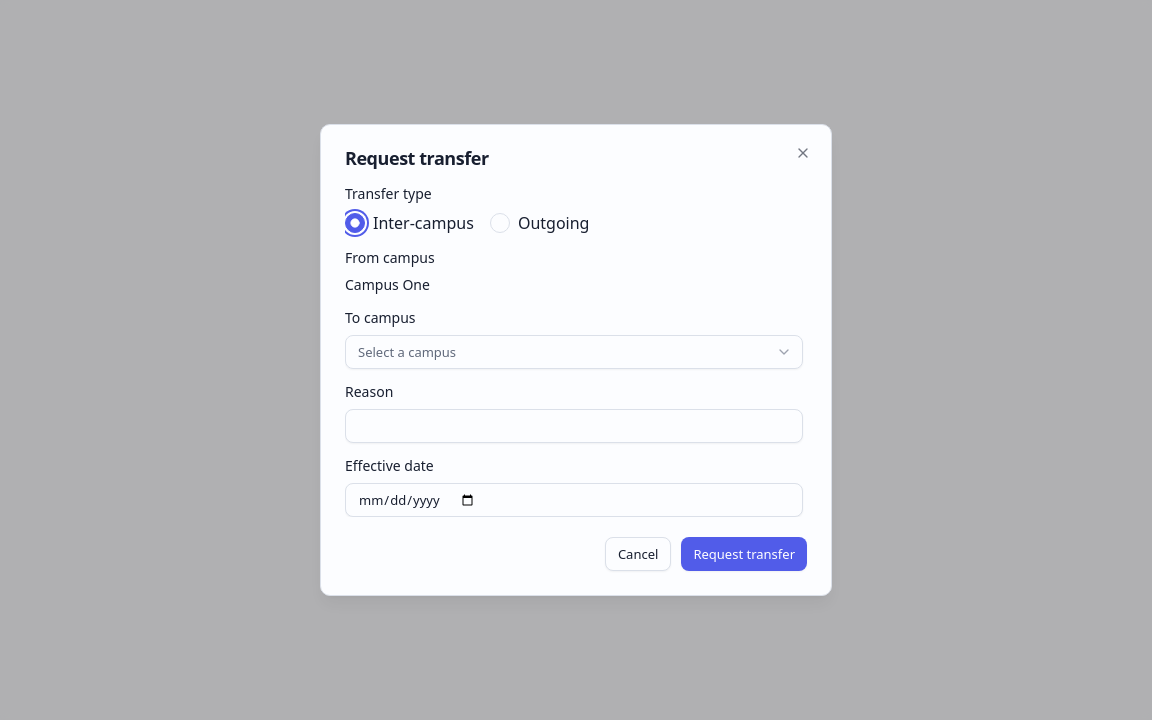
Scenario: RequestTransferDialog › excludes the current campus from the to_campus_id picker's options
This screenshot has width=1152, height=720.
Click the dropdown named "to campus" at (407, 352), box [345,335,803,369]
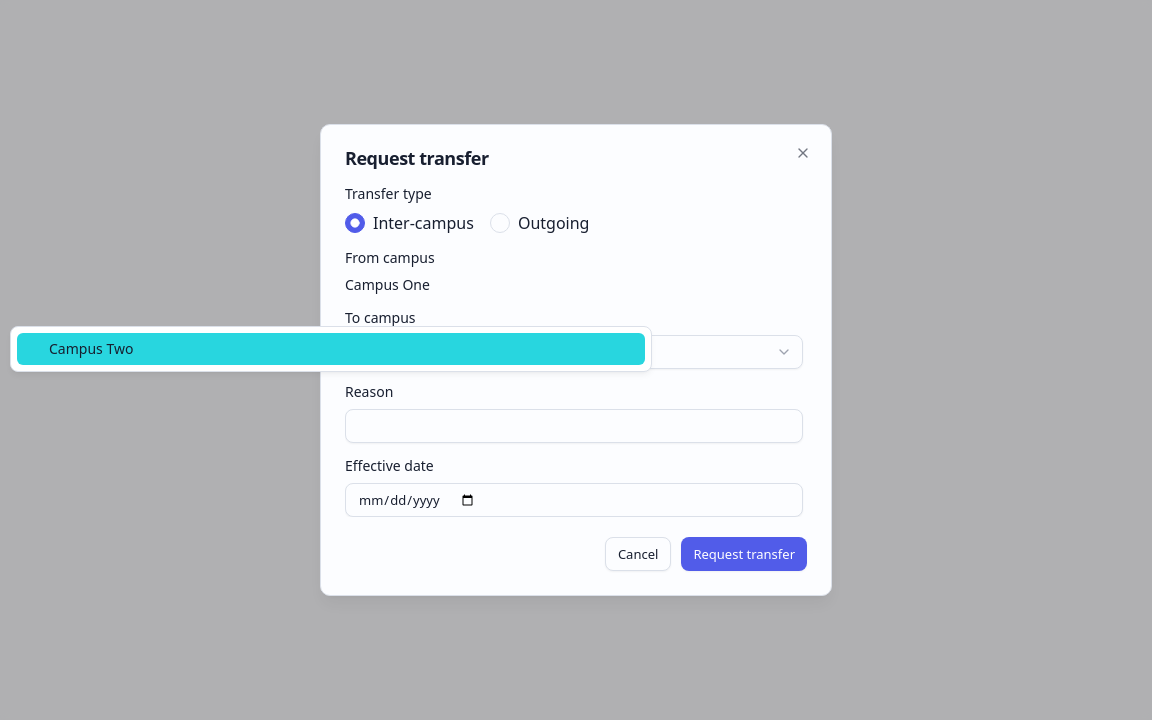
Result: the option "Campus Two" is shown at [17,333,645,365]
